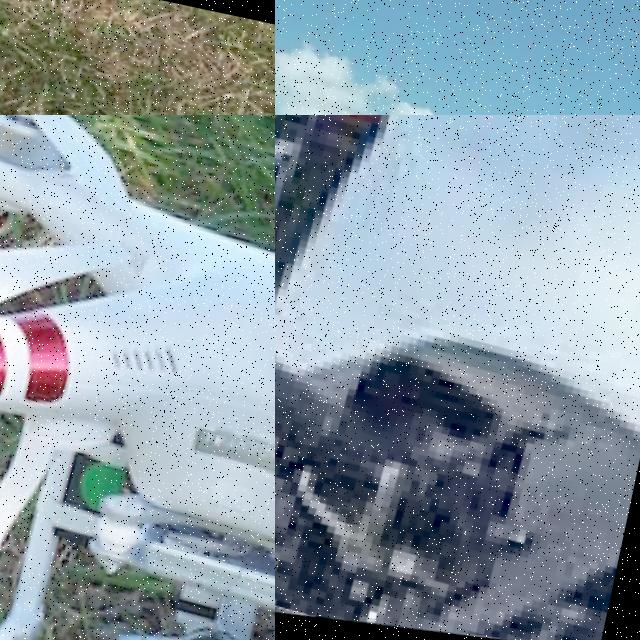drone: (275, 115, 640, 640), (0, 115, 275, 640), (0, 0, 275, 115)
